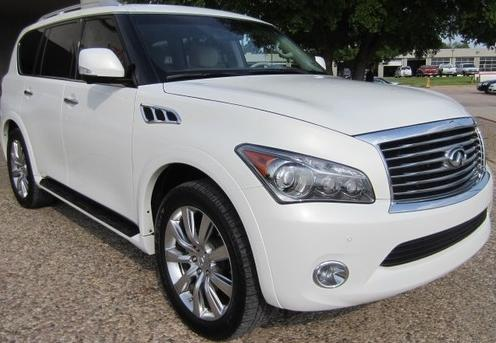front_view: (233, 106, 493, 310)
headlight: (231, 138, 378, 207)
side_glass: (13, 14, 144, 88)
